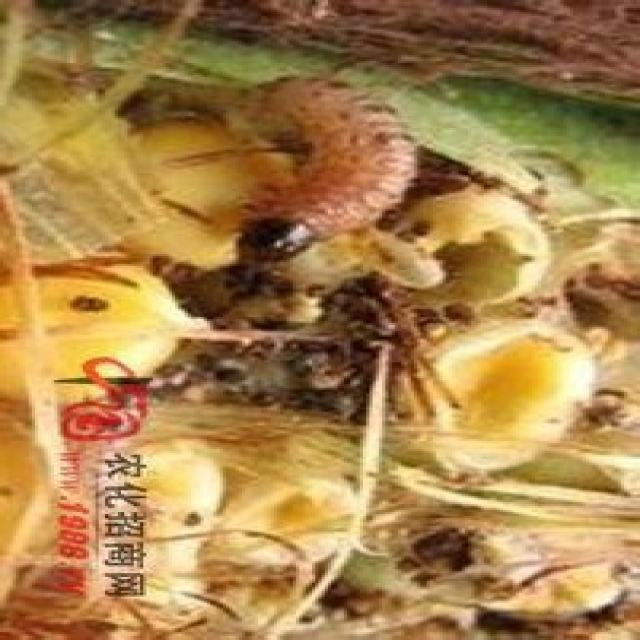peach borer: (234, 72, 418, 257)
